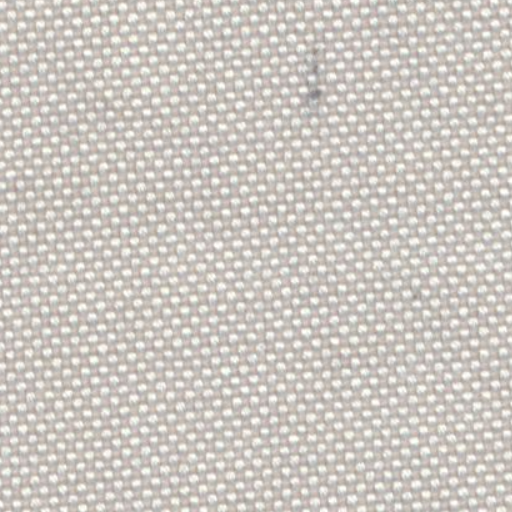WuZi: (288, 30, 340, 115)
